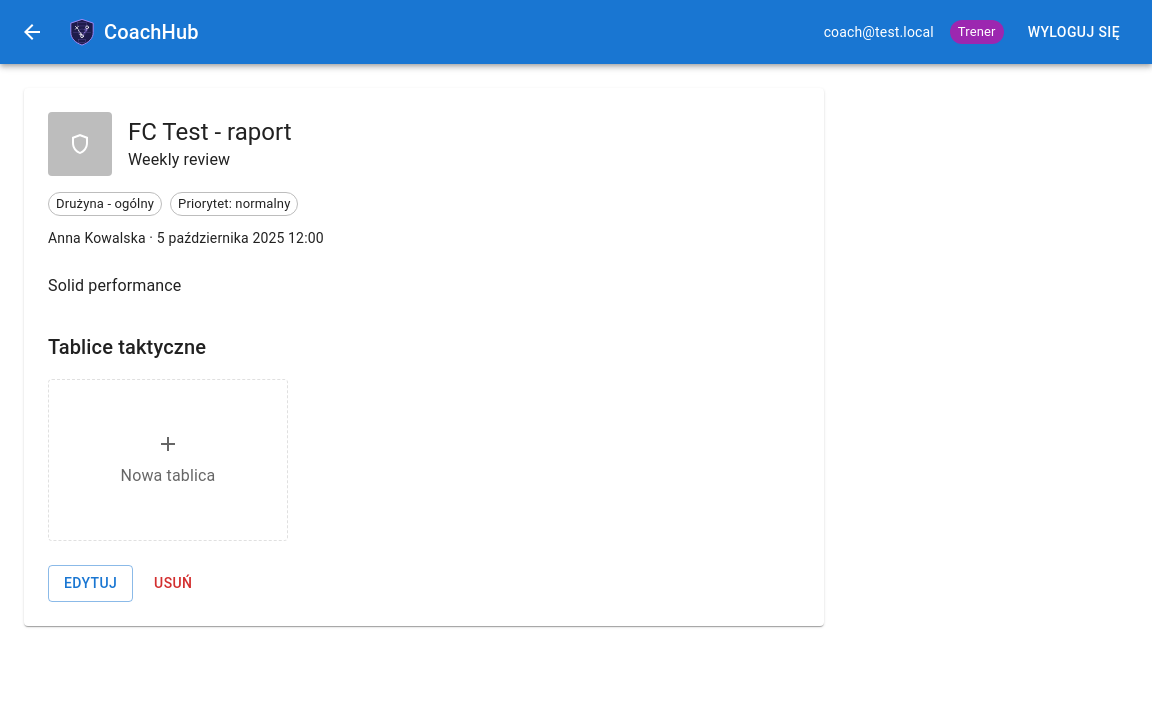
deleting the report › does not delete when cancelled
The image size is (1152, 720).
Expected: the text "Weekly review" is shown, [128,150,230,169]
Click the button "Usuń": x=173, y=583 [141,565,205,602]
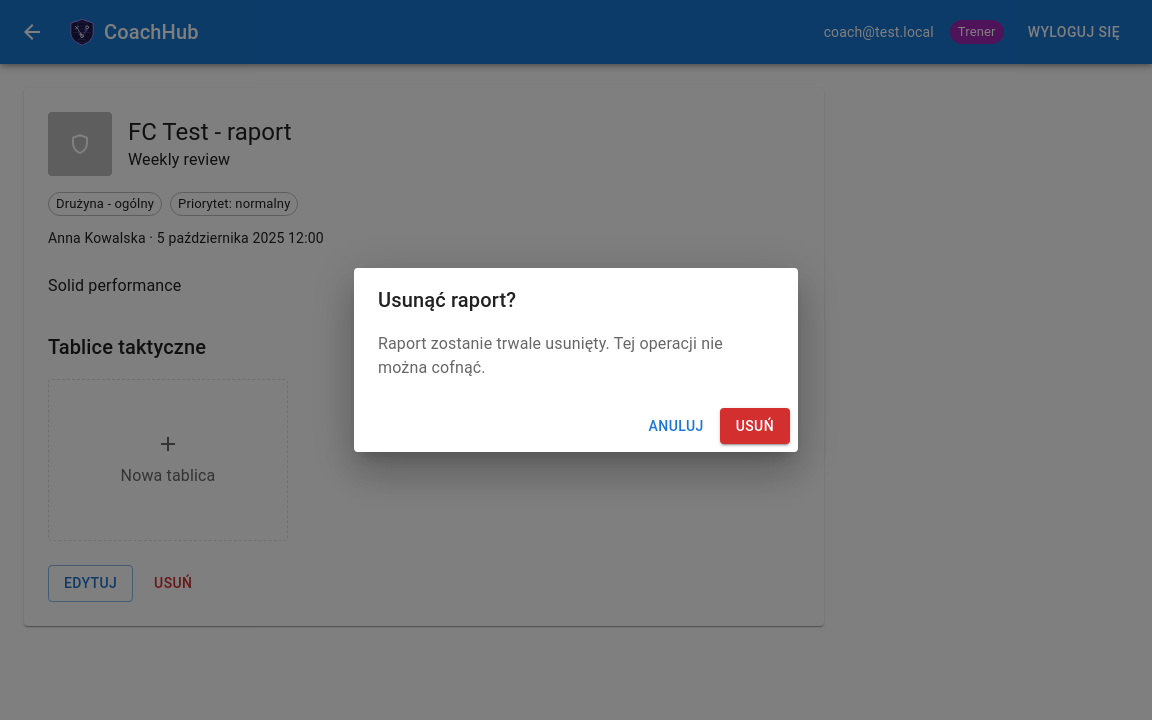
Click the button "Anuluj": x=676, y=426 [641,408,712,444]
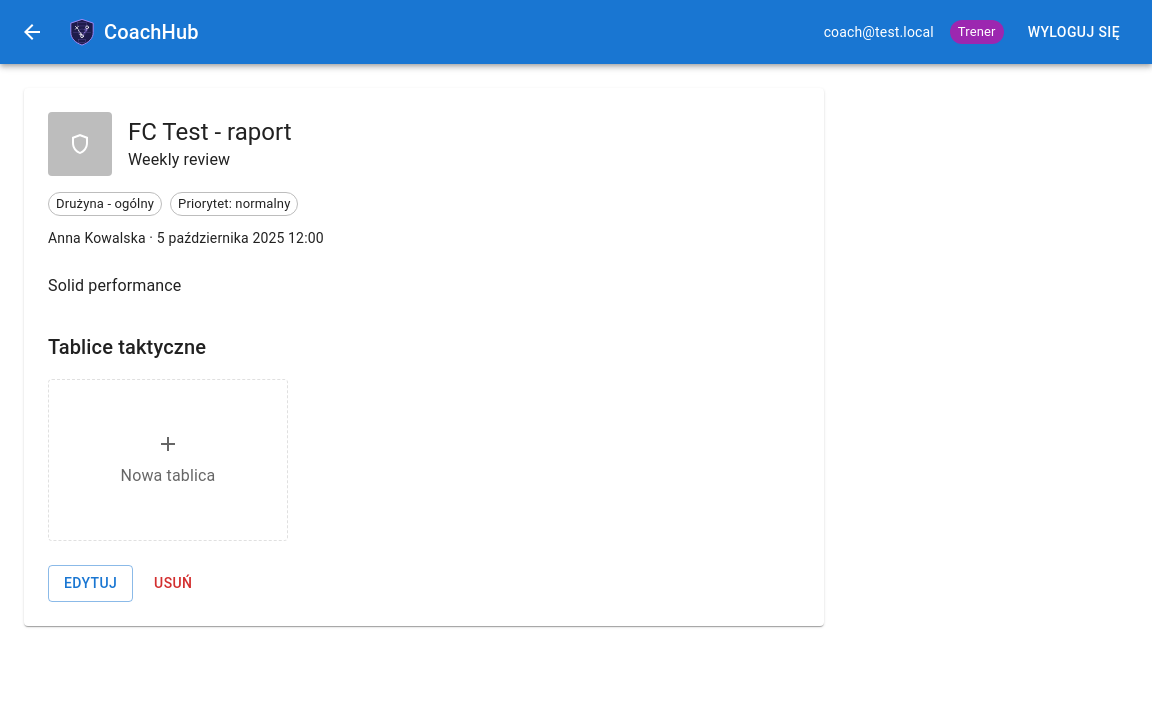
Expected: the text "Weekly review" is shown, [128,150,230,169]
Expected: the dialog is gone
